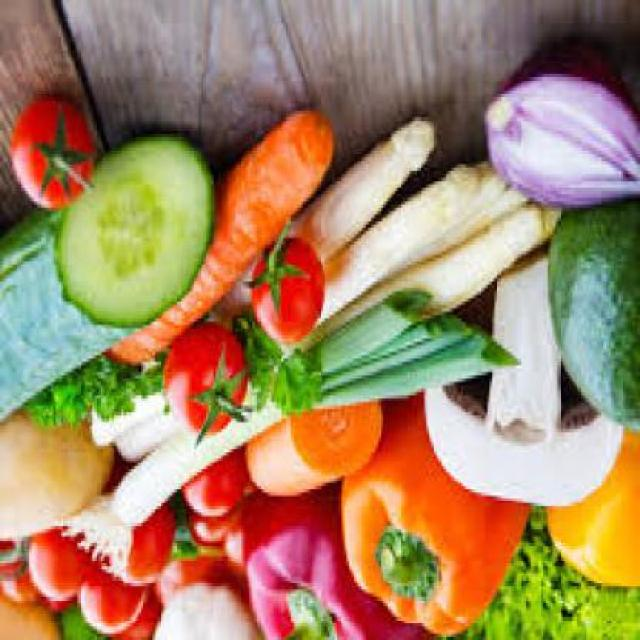BIODEGRADABLE: (55, 294, 517, 584), (107, 168, 524, 466), (87, 120, 435, 452), (118, 211, 560, 469), (97, 114, 332, 378), (0, 134, 211, 423), (422, 261, 621, 513), (337, 396, 529, 638), (241, 486, 437, 639), (482, 48, 638, 210), (451, 506, 638, 639), (548, 211, 638, 435), (0, 399, 114, 543), (542, 432, 638, 592), (161, 322, 247, 452), (22, 352, 160, 432), (8, 97, 94, 211), (245, 232, 322, 348), (150, 552, 245, 617), (1, 536, 87, 607), (0, 536, 75, 616), (74, 563, 148, 637), (152, 586, 255, 639), (108, 506, 170, 589), (165, 480, 226, 562), (230, 322, 279, 416), (264, 346, 322, 422), (180, 459, 242, 516), (184, 496, 247, 550), (220, 500, 257, 586), (105, 586, 162, 639), (0, 606, 65, 639)
